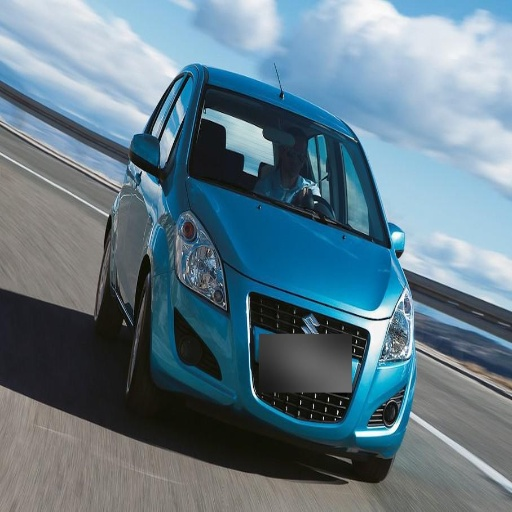front_bumper: (164, 268, 412, 456)
front_left_light: (380, 293, 412, 365)
front_right_light: (177, 229, 227, 311)
hood: (207, 198, 401, 315)
